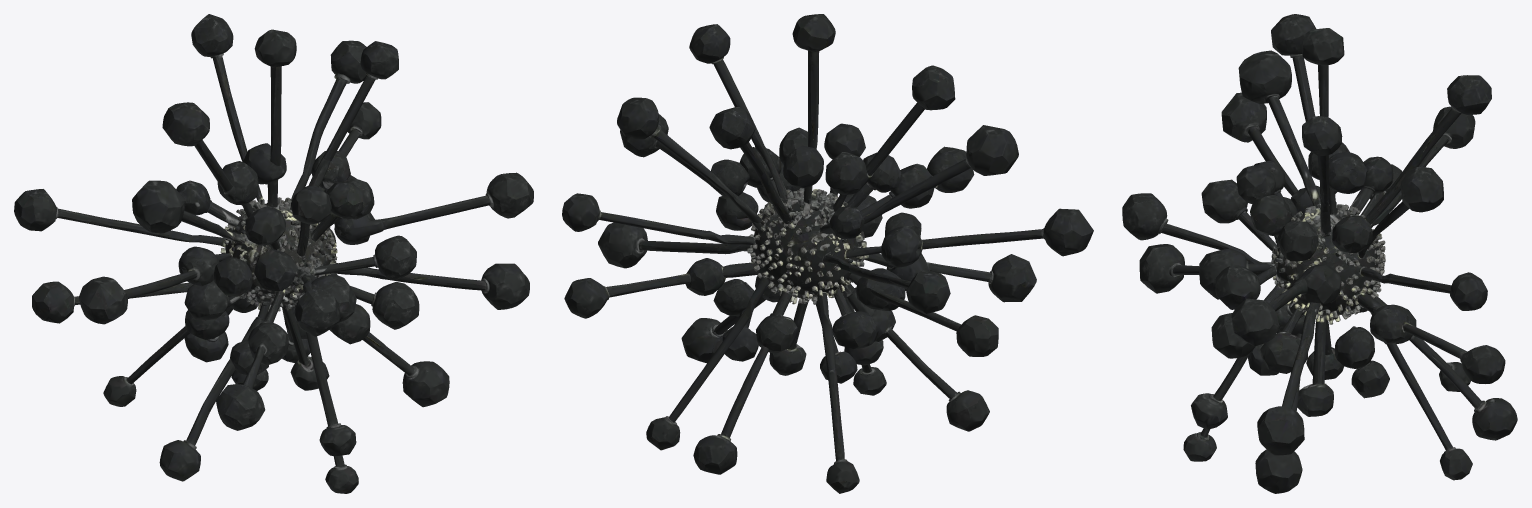
The model's file is roadmap.glb.
3 renders of one model, left to right at view 1: azimuth 30°, elevation 25°; view 2: azimuth 150°, elevation 25°; view 3: azimuth 270°, elevation 25°, orthographic. The views are drawn at different scales.
Bounding box in the file's own units: 1.9 × 1.64 × 1.37.
Materials: 1 (1 with a texture image).
